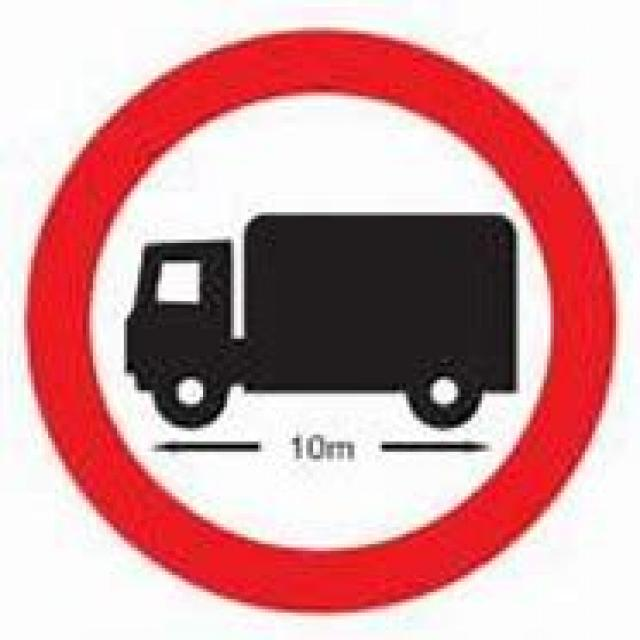LENGTH_LIMIT: (24, 20, 619, 612)
